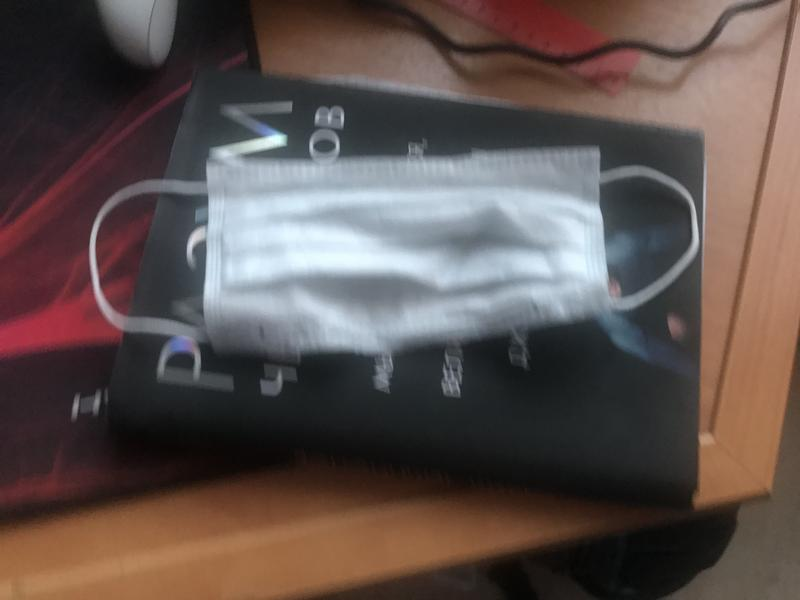medical_mask: (87, 148, 701, 351)
